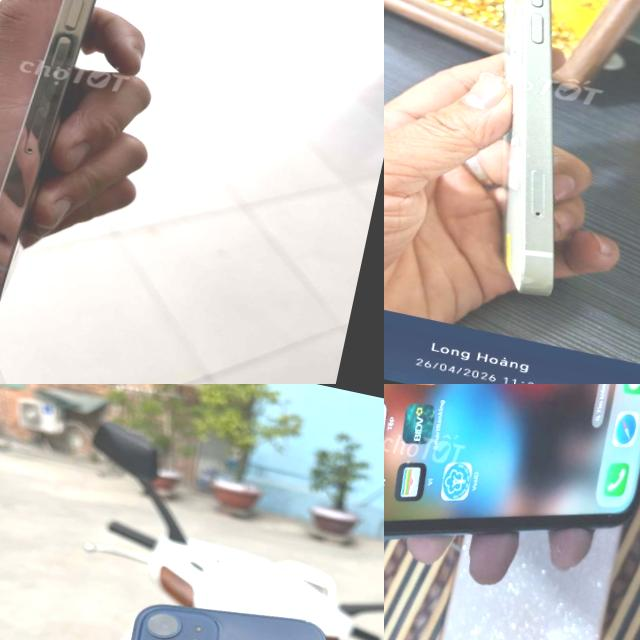gen_12_13: (420, 0, 640, 311), (48, 576, 384, 640)
gen_14: (0, 0, 144, 324)
gen_x_xs: (384, 384, 640, 534)
scratch: (504, 264, 556, 298), (46, 68, 70, 97)
